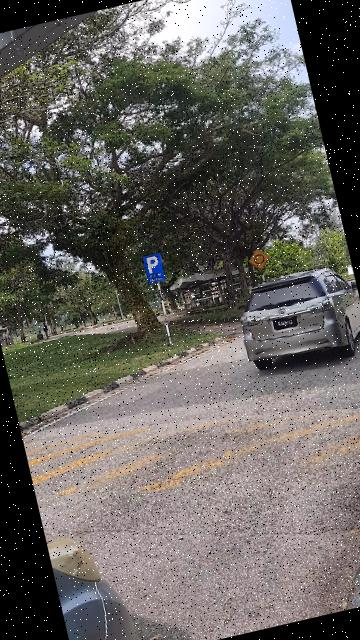License_Plate: (272, 314, 301, 334)
car: (232, 263, 360, 379)
